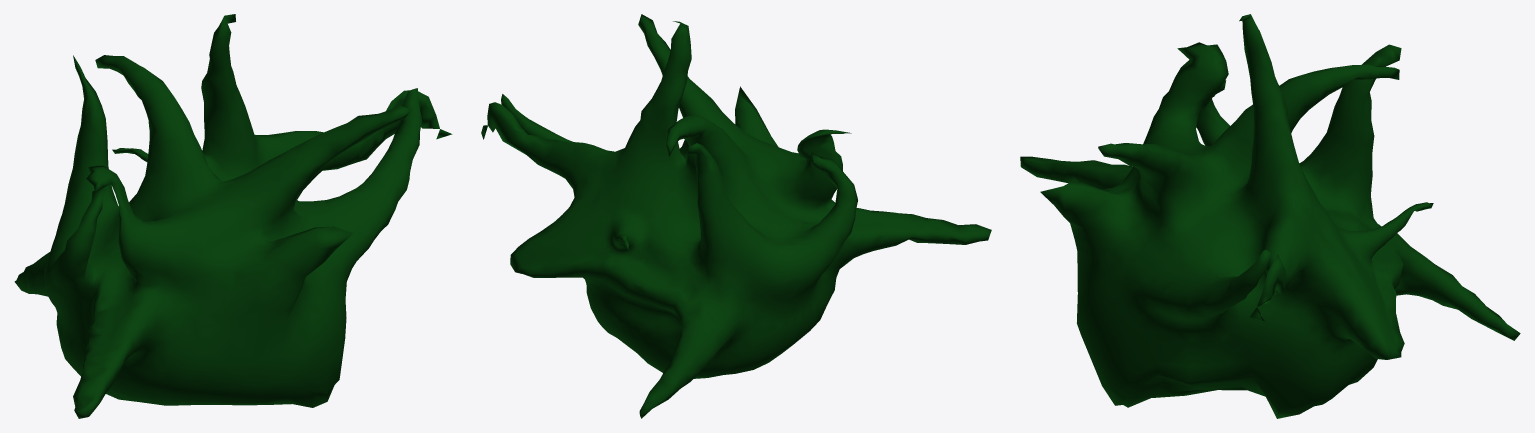
File: jump_cthulhu_0025.obj
The picture shows the model from 3 angles, left to right: view 1: azimuth 30°, elevation 25°; view 2: azimuth 150°, elevation 25°; view 3: azimuth 270°, elevation 25°; orthographic projection. The views are drawn at different scales.
Visible parts, largest first — view 1: Cube; view 2: Cube; view 3: Cube.
Part boxes in pixels (x1=…): Cube: x1=14, y1=14, x2=452, y2=418; Cube: x1=481, y1=14, x2=991, y2=418; Cube: x1=1020, y1=14, x2=1520, y2=418.
Bounding box in the file's own units: 1.27 × 0.9207 × 1.08.
